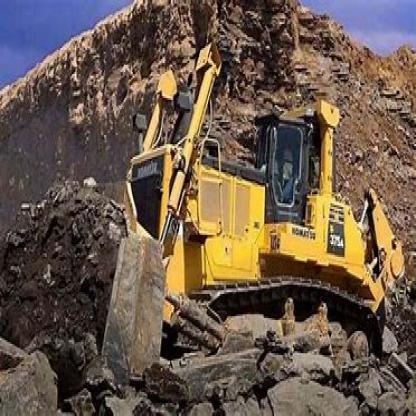bull_dozer/loader/grader: (69, 37, 410, 381)
